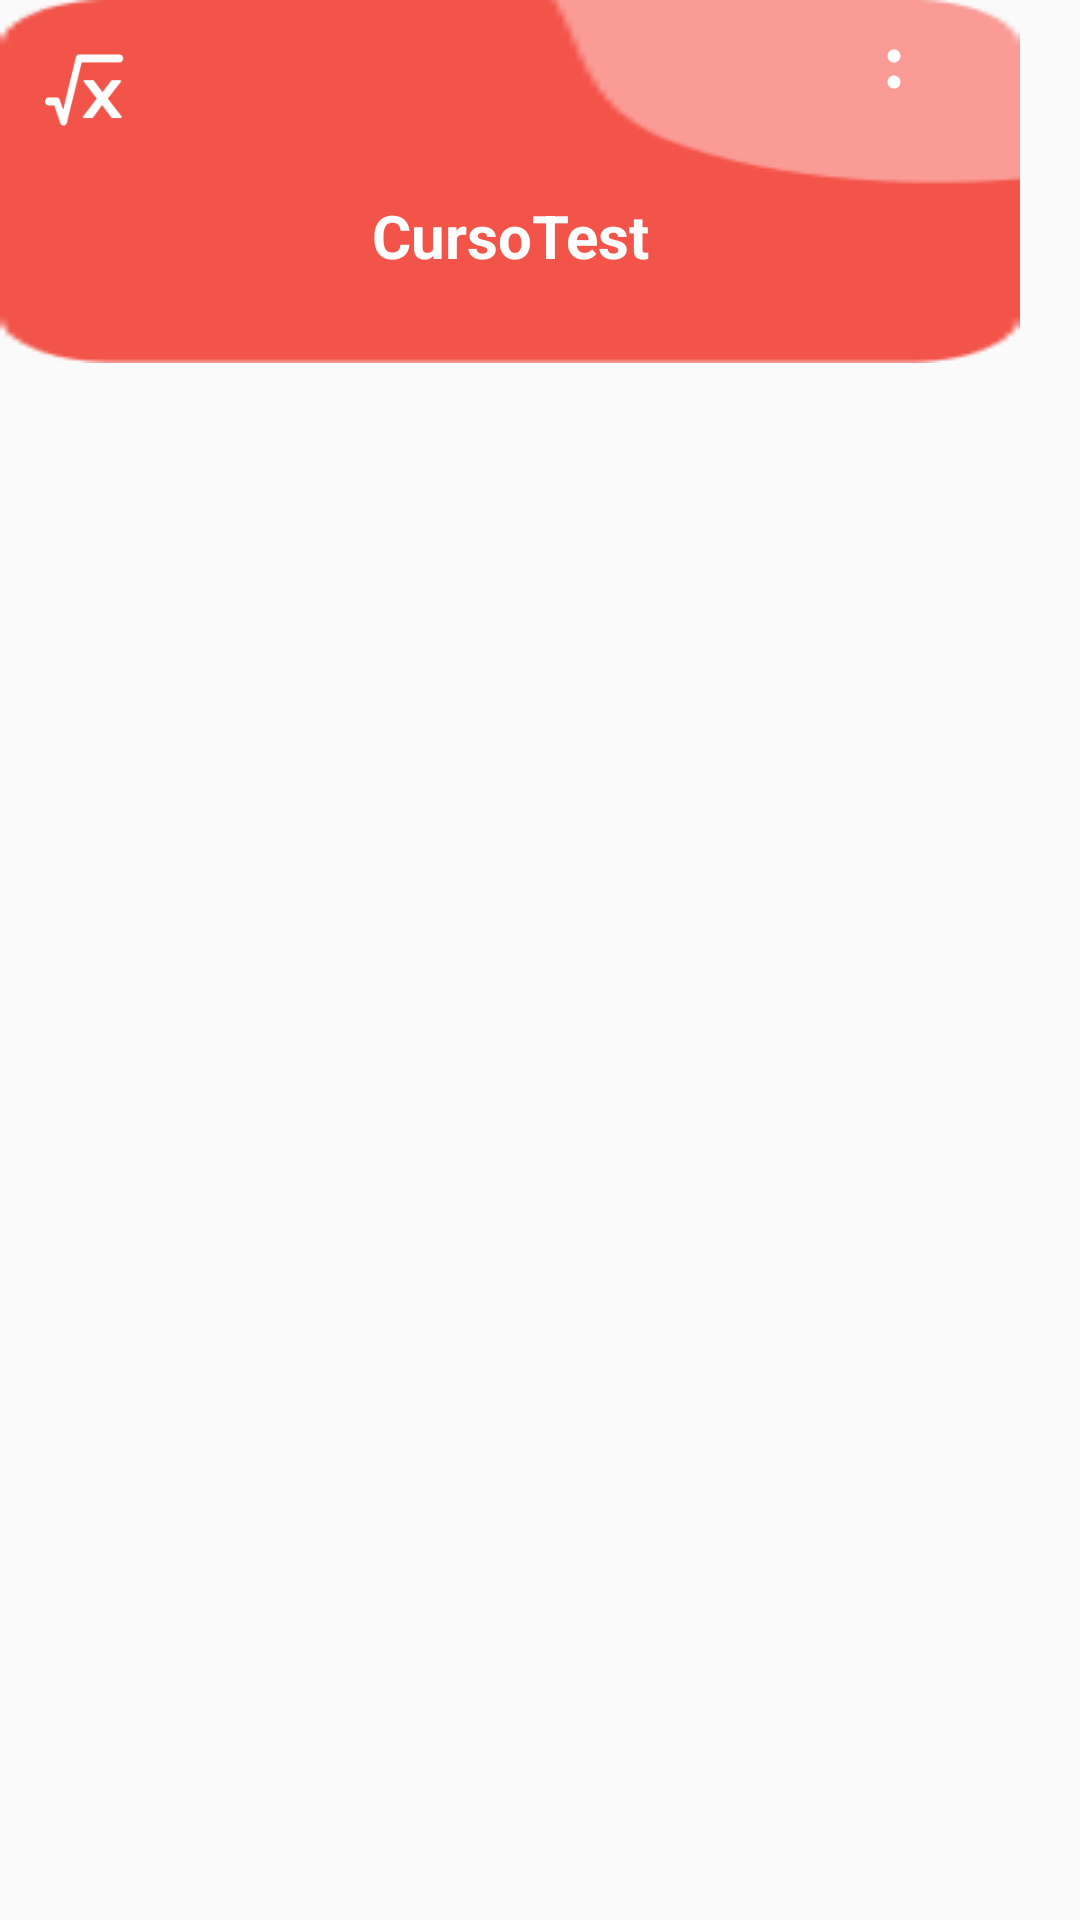

Locate icon controls on the screen. Image size 1080px×1920px, boxes as (x1, y1, x2, y2).
mas: (887, 49, 901, 89)
